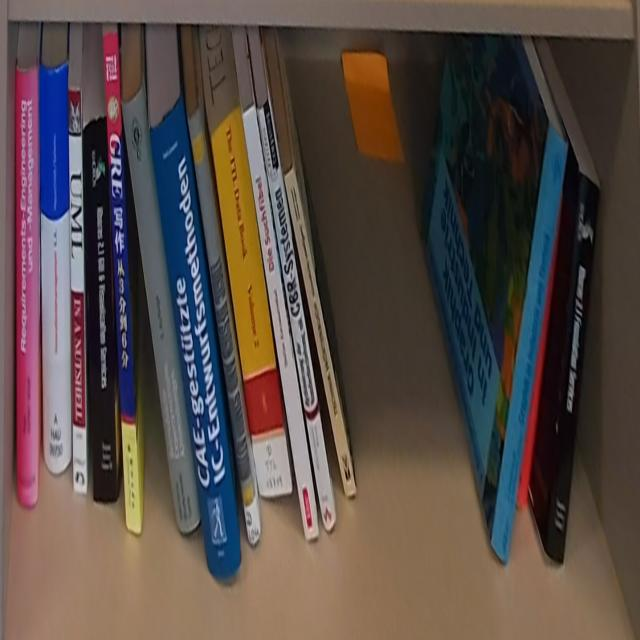Book Spine: (146, 89, 241, 582), (121, 85, 199, 538), (256, 96, 337, 529), (242, 105, 319, 547), (492, 127, 567, 567), (209, 107, 293, 497), (188, 111, 262, 549), (284, 160, 358, 502), (545, 169, 599, 567), (103, 34, 141, 539), (38, 51, 73, 479), (83, 113, 118, 500), (14, 65, 39, 503), (71, 88, 89, 496)
